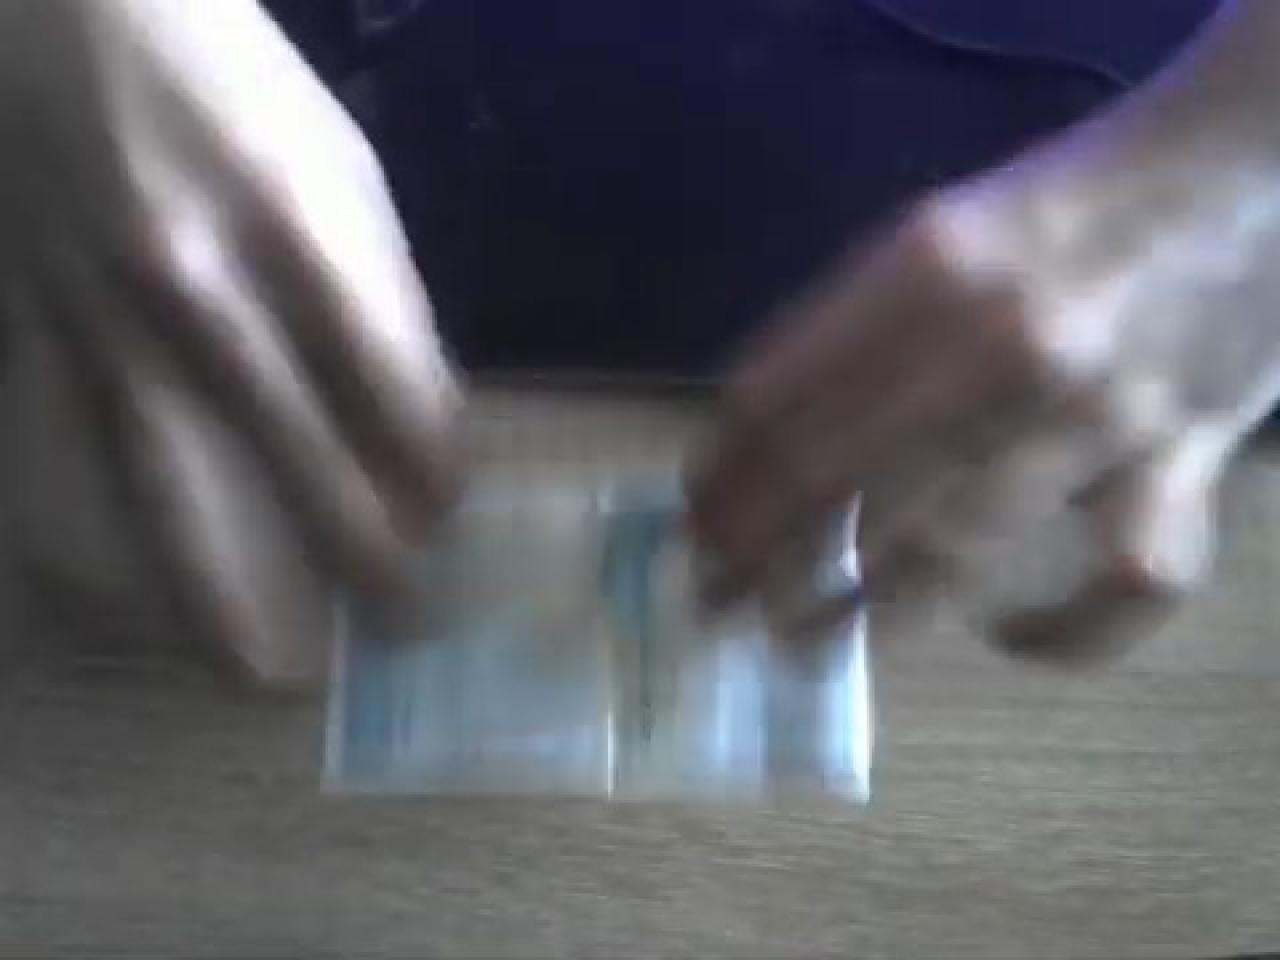20leva: (314, 371, 880, 813)
